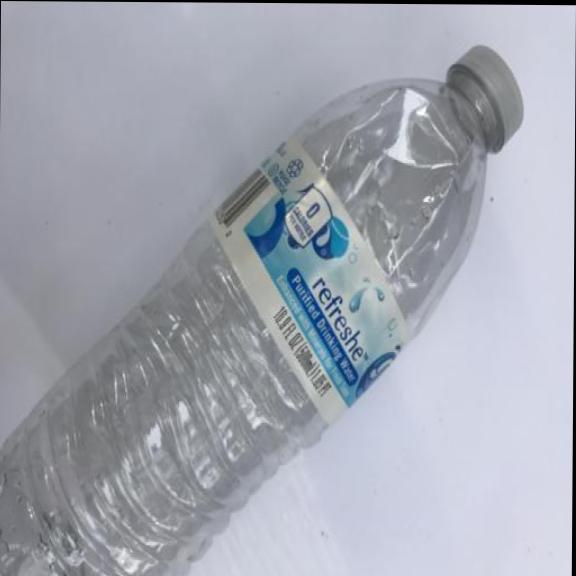Plastik: (0, 31, 531, 576)
